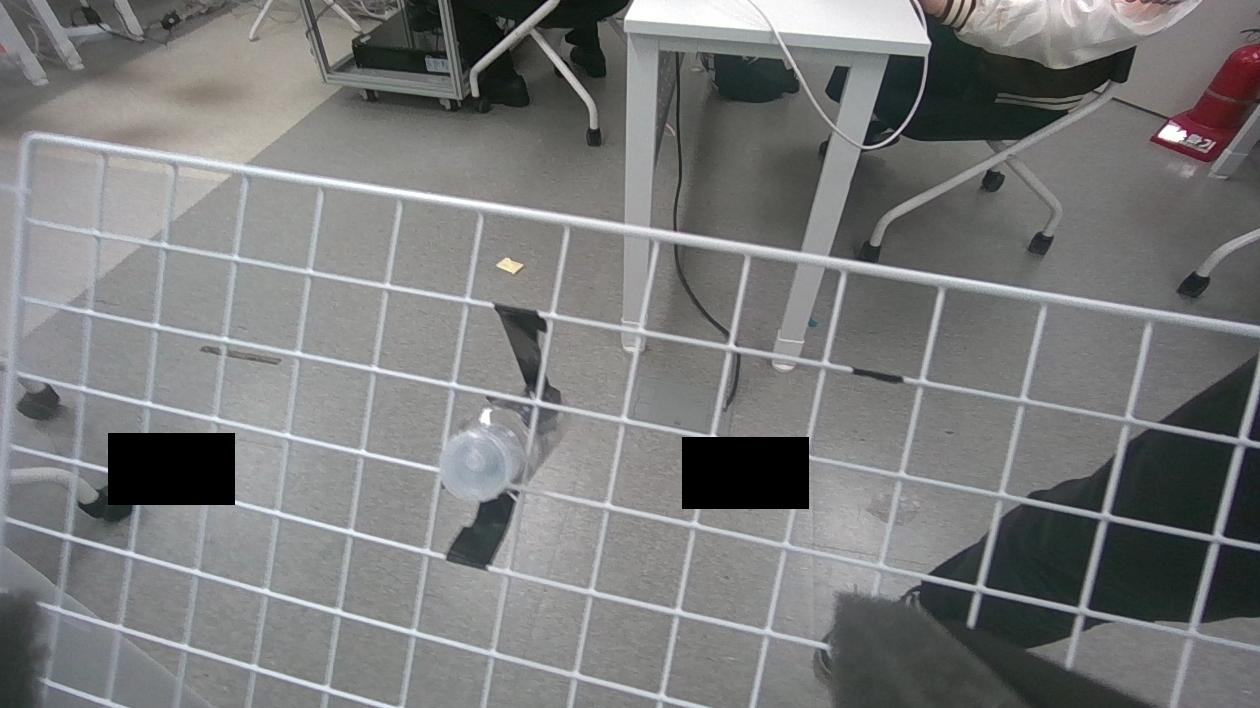Cap: (439, 431, 513, 502)
